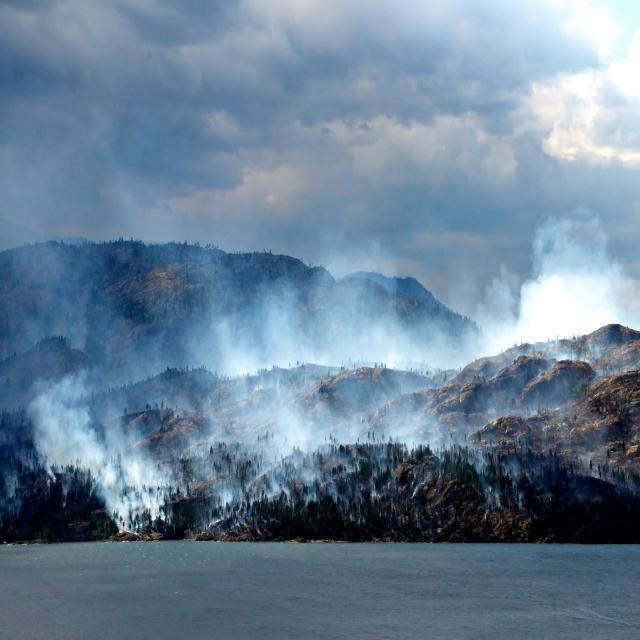Smoke: (0, 165, 640, 524)
